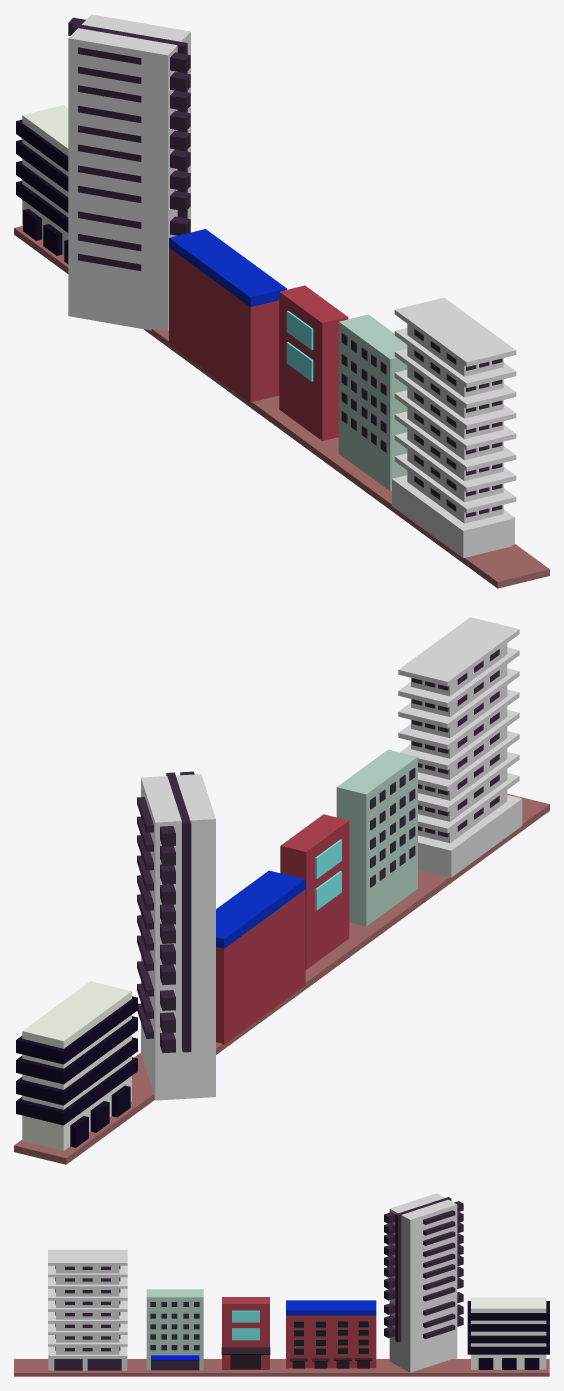
File: BuildingBlockA.glb
3 views of the same model, one above another, from view 1: azimuth 30°, elevation 25°; view 2: azimuth 150°, elevation 25°; view 3: azimuth 270°, elevation 25° (orthographic). The views are drawn at different scales.
Parts seen in each view (by area): view 1: Cube.215, Cube.180, Cube.147, Cube.154, Cube.216, Cube.117, Cube.018, Cube.155, Cube.224, Cube.102, Cube.088, Cube.046 (+17 smaller); view 2: Cube.215, Cube.147, Cube.180, Cube.224, Cube.216, Cube.154, Cube.018, Cube.117, Cube.155, Cube.211, Cube.220, Cube.221 (+17 smaller); view 3: Cube.215, Cube.216, Cube.180, Cube.147, Cube.224, Cube.154, Cube.155, Cube.018, Cube.211, Cube.221, Cube.220, Cube.004 (+25 smaller).
Boxes of the visible parts, x1,y1,x2,y2 form: Cube.215: (68,14,190,331); Cube.180: (169,248,279,402); Cube.147: (338,314,407,491); Cube.154: (279,285,348,440); Cube.216: (14,226,549,588); Cube.117: (392,475,511,557); Cube.018: (394,297,516,366); Cube.155: (169,229,286,307); Cube.224: (22,105,68,255); Cube.102: (394,432,516,492); Cube.088: (394,411,516,471); Cube.046: (394,348,516,408); Cube.215: (141,774,215,1100); Cube.147: (336,749,417,926); Cube.180: (216,889,305,1044); Cube.224: (22,981,131,1150); Cube.216: (14,794,549,1164); Cube.154: (280,814,349,969); Cube.018: (398,617,519,686); Cube.117: (418,795,522,877); Cube.155: (216,870,305,948); Cube.211: (166,772,191,1052); Cube.220: (16,1057,137,1125); Cube.221: (16,1037,137,1105); Cube.215: (389,1193,457,1372); Cube.216: (14,1359,549,1376); Cube.180: (286,1315,376,1368); Cube.147: (146,1289,203,1370); Cube.224: (471,1297,546,1369); Cube.154: (222,1297,269,1369); Cube.155: (286,1300,376,1315); Cube.018: (48,1249,127,1265); Cube.211: (395,1197,451,1342); Cube.221: (467,1331,549,1343); Cube.220: (467,1343,549,1354); Cube.004: (54,1359,121,1370).
Size of the model in its own units: 54.18 by 147 by 455.
